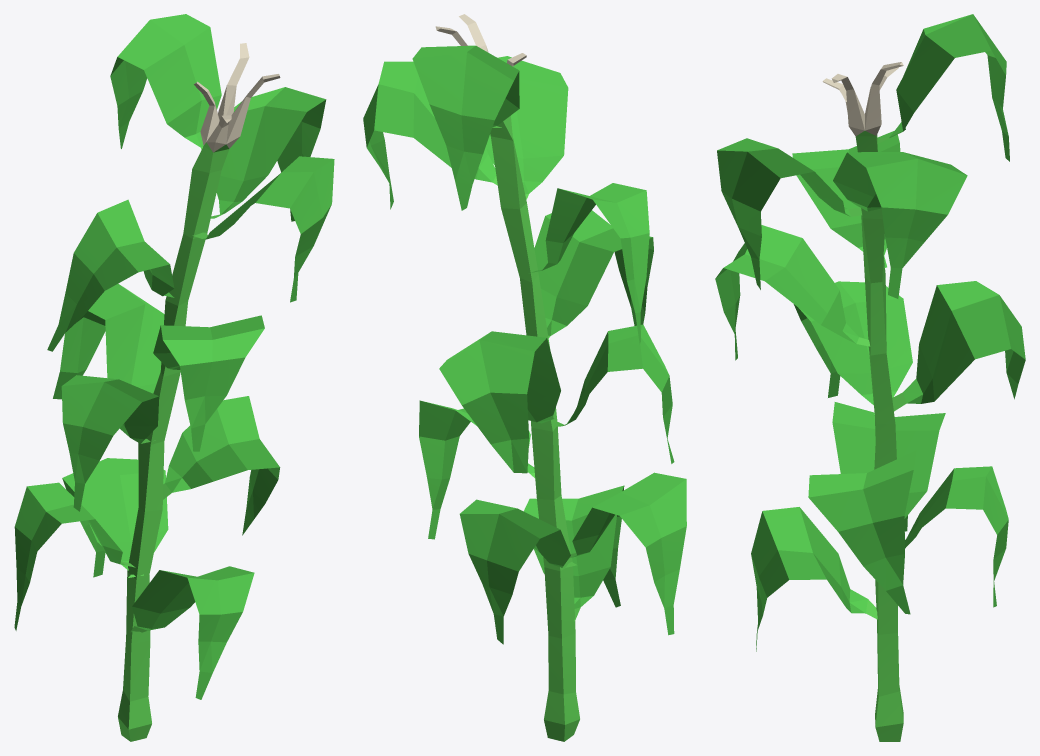
Rendered from SM_Prop_Plant_Corn_01_L_Var_01.fbx.
3 renders of one model, left to right at view 1: azimuth 30°, elevation 25°; view 2: azimuth 150°, elevation 25°; view 3: azimuth 270°, elevation 25°, orthographic. The views are drawn at different scales.
Parts seen in each view (by area): view 1: SM_Prop_Plant_Corn_01_L_Var_01; view 2: SM_Prop_Plant_Corn_01_L_Var_01; view 3: SM_Prop_Plant_Corn_01_L_Var_01.
Boxes of the visible parts, bbox=[...] form: SM_Prop_Plant_Corn_01_L_Var_01: bbox=[14, 14, 334, 741]; SM_Prop_Plant_Corn_01_L_Var_01: bbox=[363, 14, 686, 741]; SM_Prop_Plant_Corn_01_L_Var_01: bbox=[715, 14, 1025, 741].
Bounding box in the file's own units: 1 × 2.19 × 0.8175.
Materials: 1 (1 with a texture image).
